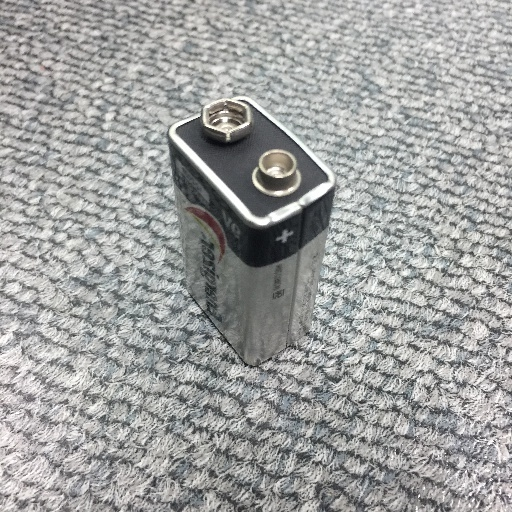Battery_3: (154, 65, 356, 378)
